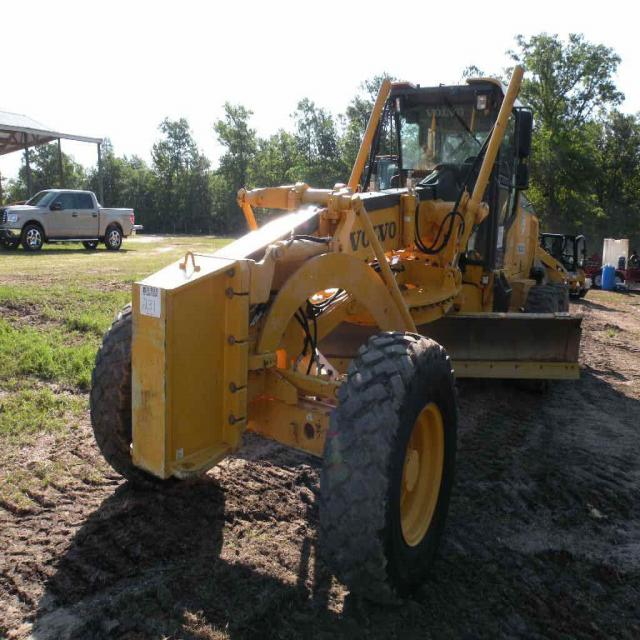Grader: (77, 45, 611, 587)
